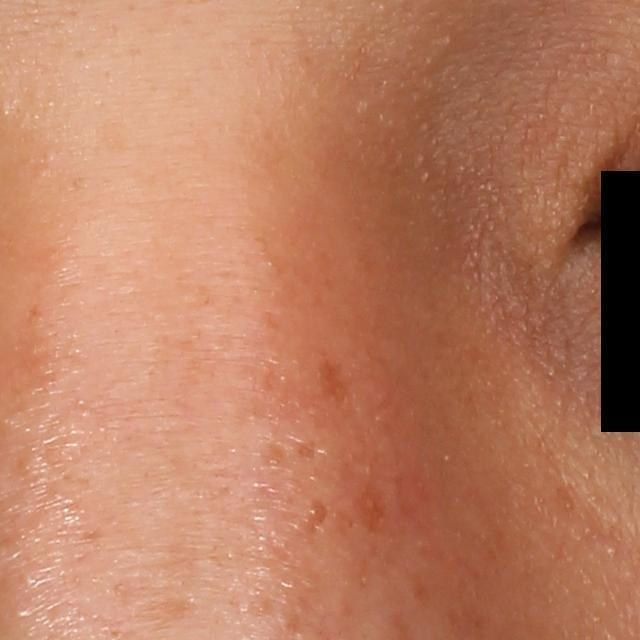melasma: (111, 579, 199, 633), (312, 357, 356, 411), (348, 482, 386, 537), (257, 432, 289, 467), (303, 499, 329, 536), (402, 567, 430, 600), (294, 439, 316, 459)
